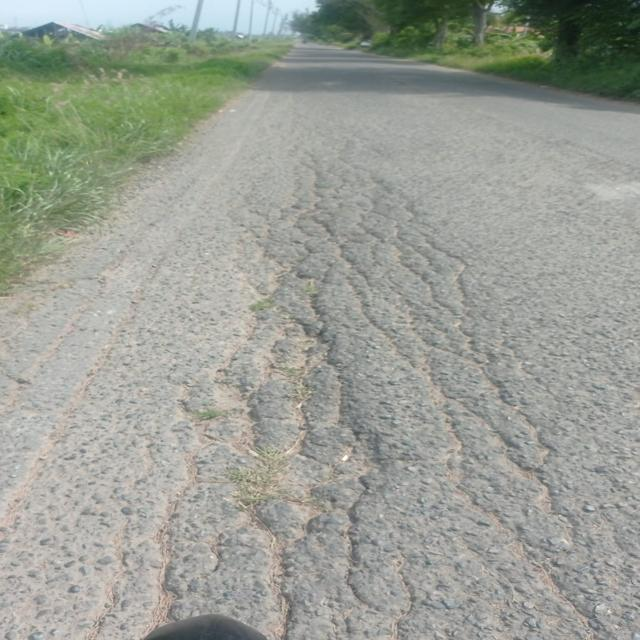Retak Buaya: (126, 150, 550, 640)
